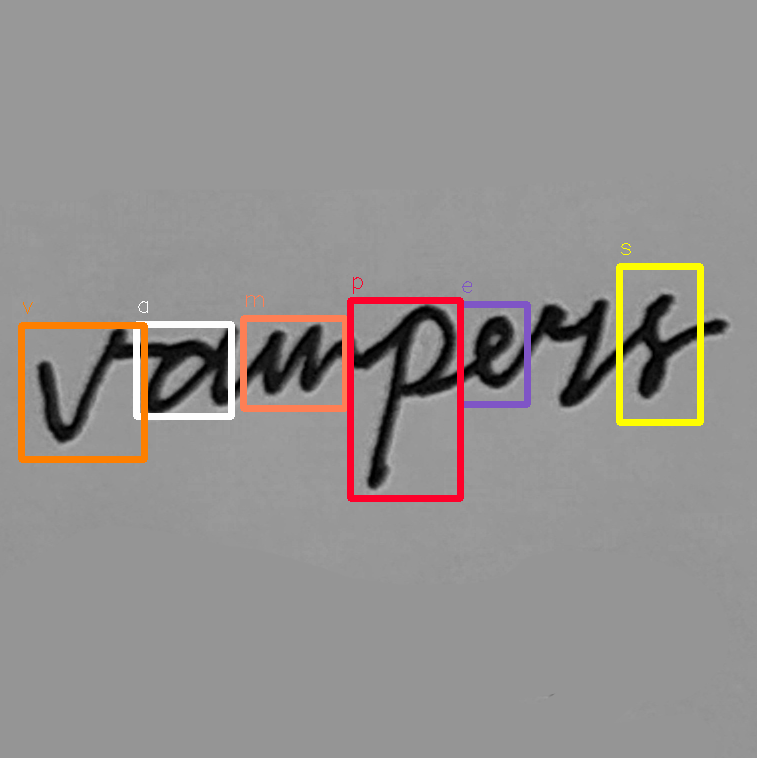a: (135, 320, 248, 417)
e: (467, 309, 522, 396)
m: (255, 318, 368, 405)
p: (365, 300, 463, 493)
r: (529, 291, 613, 411)
s: (626, 285, 686, 406)
v: (30, 318, 133, 447)
